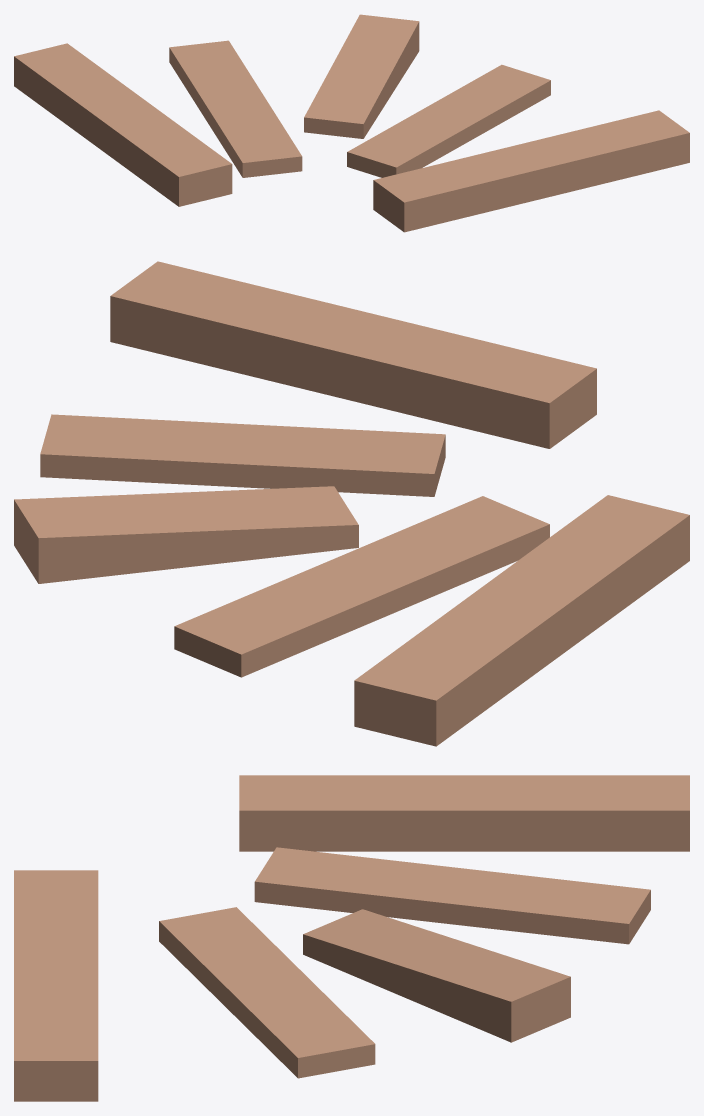
Rendered from path_woodCorner.glb.
3 views of the same model, one above another, from view 1: azimuth 30°, elevation 25°; view 2: azimuth 150°, elevation 25°; view 3: azimuth 270°, elevation 25° (orthographic). The views are drawn at different scales.
Visible parts, largest first — view 1: path_woodCorner; view 2: path_woodCorner; view 3: path_woodCorner.
Part boxes in pixels (x1=…): path_woodCorner: x1=14, y1=14, x2=689, y2=232; path_woodCorner: x1=14, y1=261, x2=689, y2=746; path_woodCorner: x1=14, y1=775, x2=689, y2=1101.
Size of the model in its own units: 0.75 by 0.05 by 0.75.
